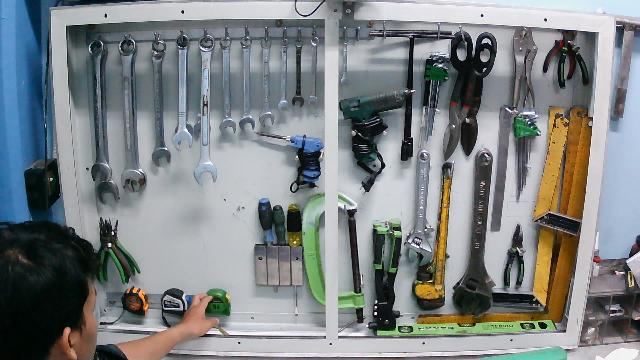meteran: (197, 283, 237, 338)
